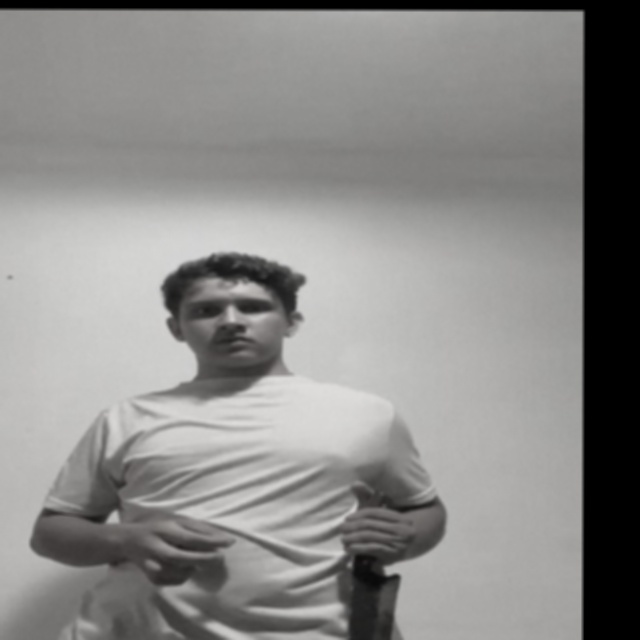Sharp-Object: (343, 568, 402, 640)
